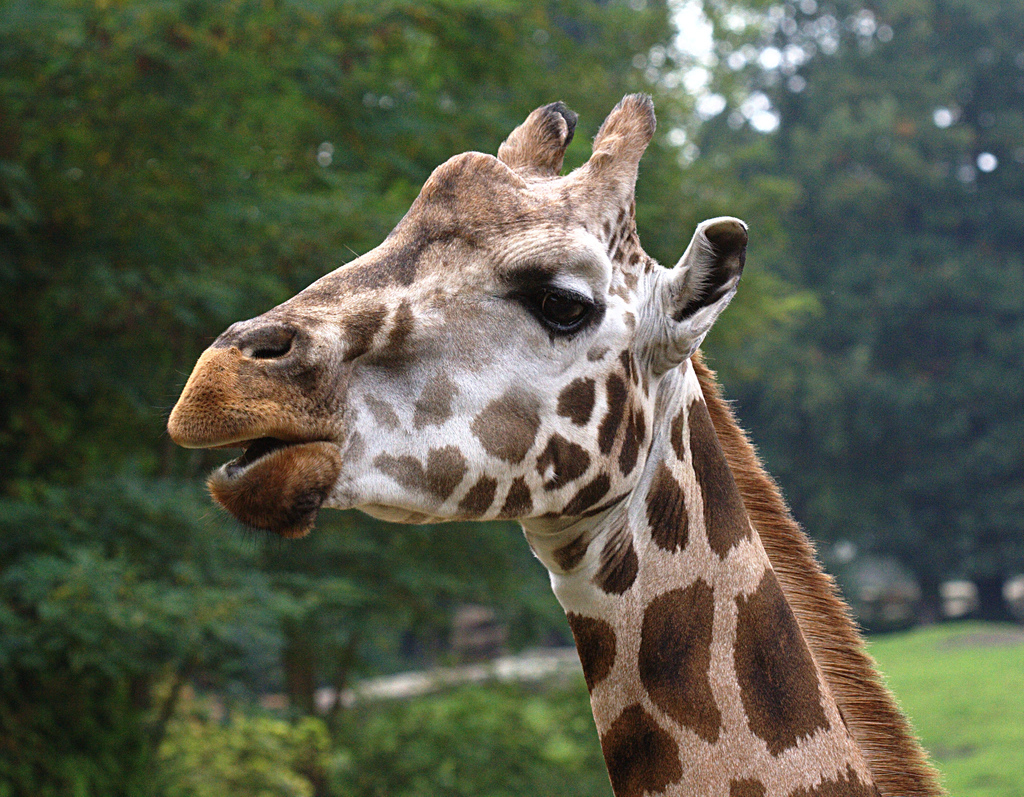giraffe: (185, 90, 905, 789)
